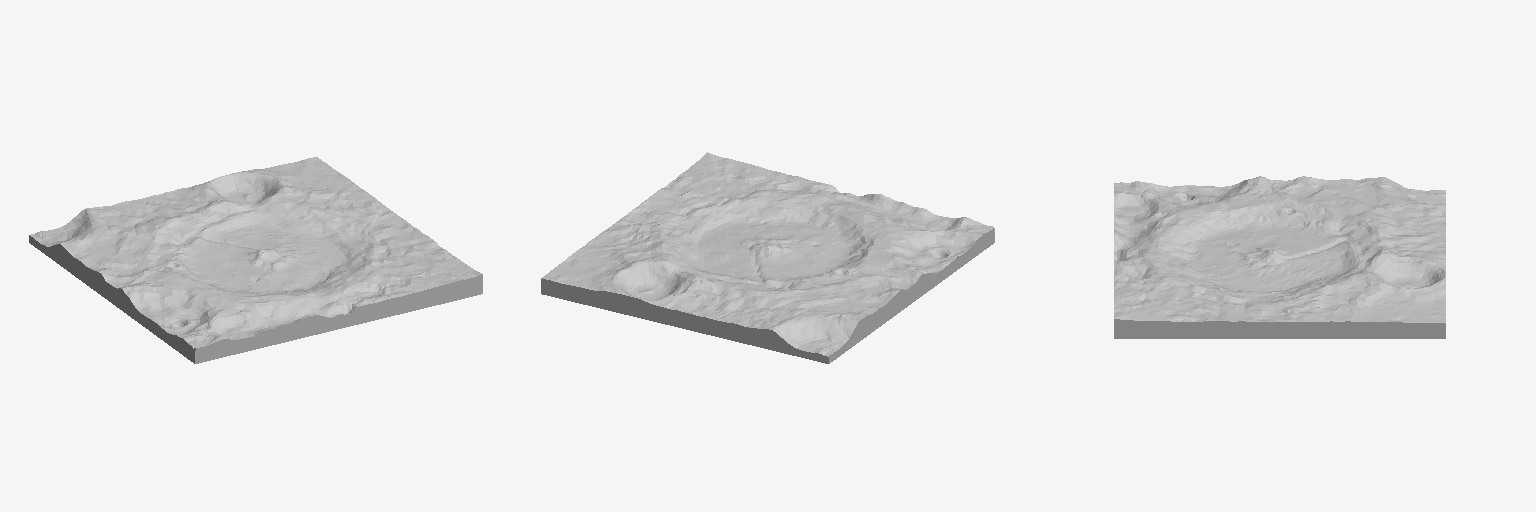
Rendered from moon_ground.obj.
3 views of the same model, side by side, from view 1: azimuth 30°, elevation 25°; view 2: azimuth 150°, elevation 25°; view 3: azimuth 270°, elevation 25° (orthographic).
Parts seen in each view (by area): view 1: Petavius_ZB_LP; view 2: Petavius_ZB_LP; view 3: Petavius_ZB_LP.
Boxes of the visible parts, x1,y1,x2,y2 form: Petavius_ZB_LP: [29, 157, 482, 363]; Petavius_ZB_LP: [541, 152, 994, 363]; Petavius_ZB_LP: [1114, 176, 1445, 338].
Size of the model in its own units: 1.9 by 0.1562 by 1.9.